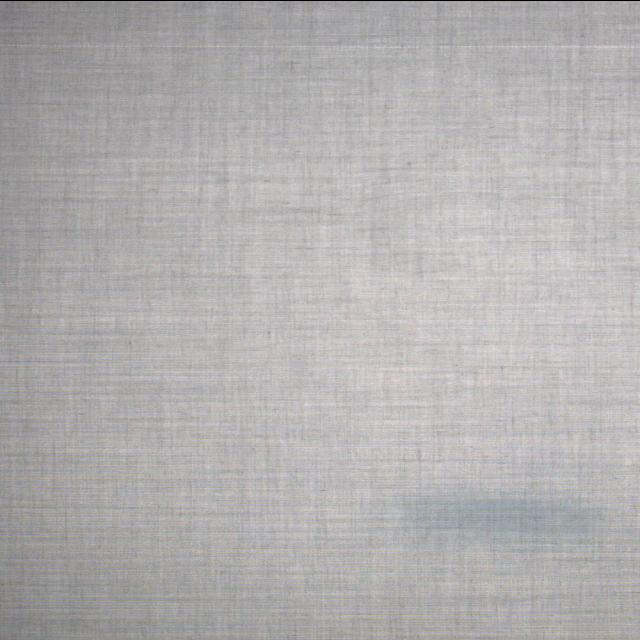dirty: (403, 498, 596, 532)
